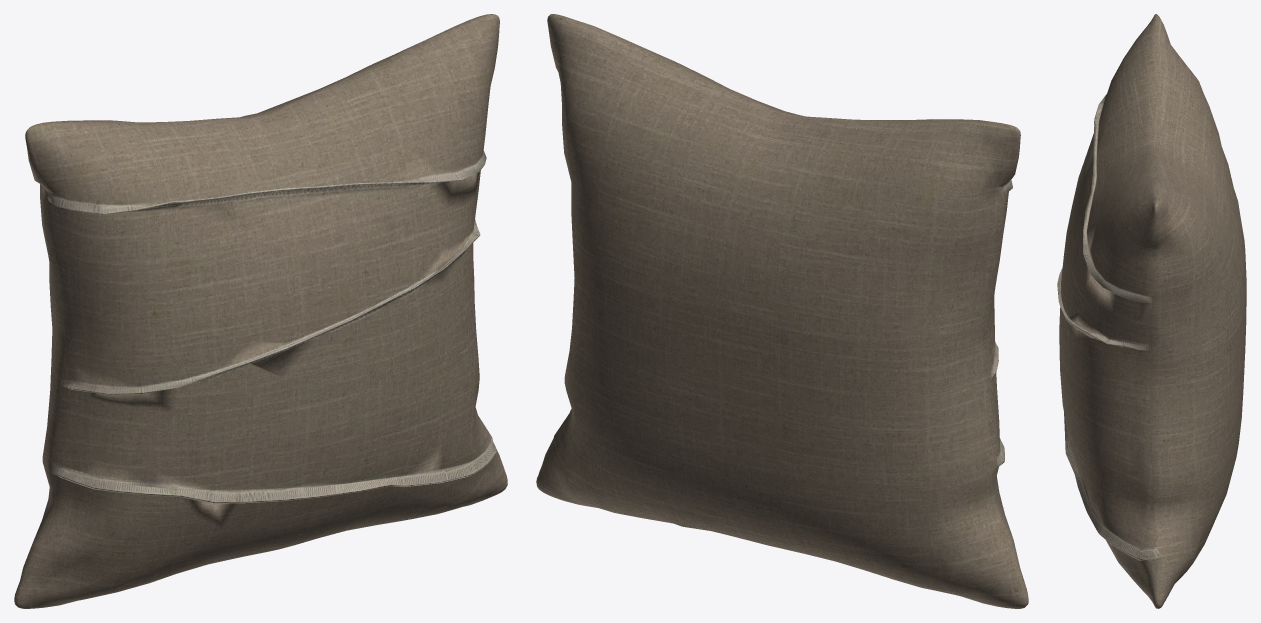
Rendered from B07JLGCKKJ.glb.
3 views of the same model, side by side, from view 1: azimuth 30°, elevation 25°; view 2: azimuth 150°, elevation 25°; view 3: azimuth 270°, elevation 25° (orthographic). The views are drawn at different scales.
Visible parts, largest first — view 1: RootNode; view 2: RootNode; view 3: RootNode.
Boxes of the visible parts, bbox=[...] form: RootNode: bbox=[14, 14, 507, 608]; RootNode: bbox=[536, 14, 1028, 608]; RootNode: bbox=[1057, 14, 1246, 608].
Bounding box in the file's own units: 0.4241 × 0.3997 × 0.1687.
Materials: 1 (1 with a texture image).
